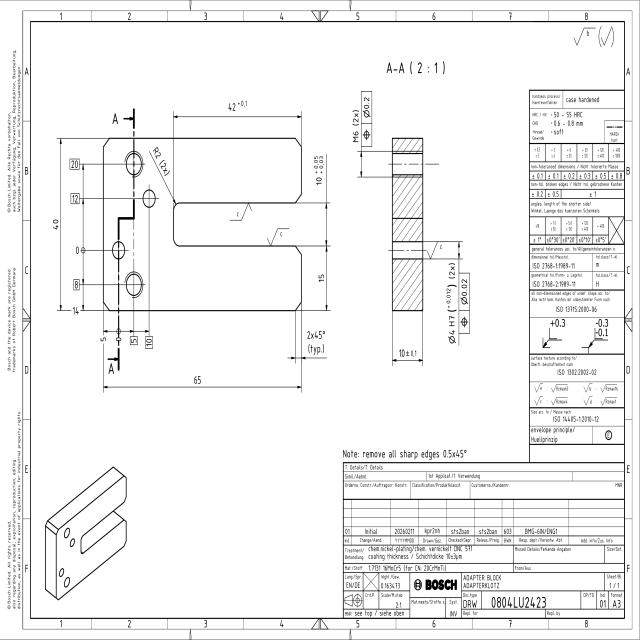dimension: (446, 261, 457, 347), (151, 144, 172, 178), (306, 328, 326, 355), (313, 154, 324, 187), (350, 108, 360, 144), (227, 100, 249, 112), (398, 348, 417, 358), (69, 157, 80, 171), (51, 215, 59, 232), (145, 335, 154, 350), (70, 192, 80, 205), (192, 374, 202, 386), (70, 305, 80, 316), (317, 272, 326, 284), (72, 278, 80, 291), (130, 334, 138, 346), (99, 336, 108, 344)
